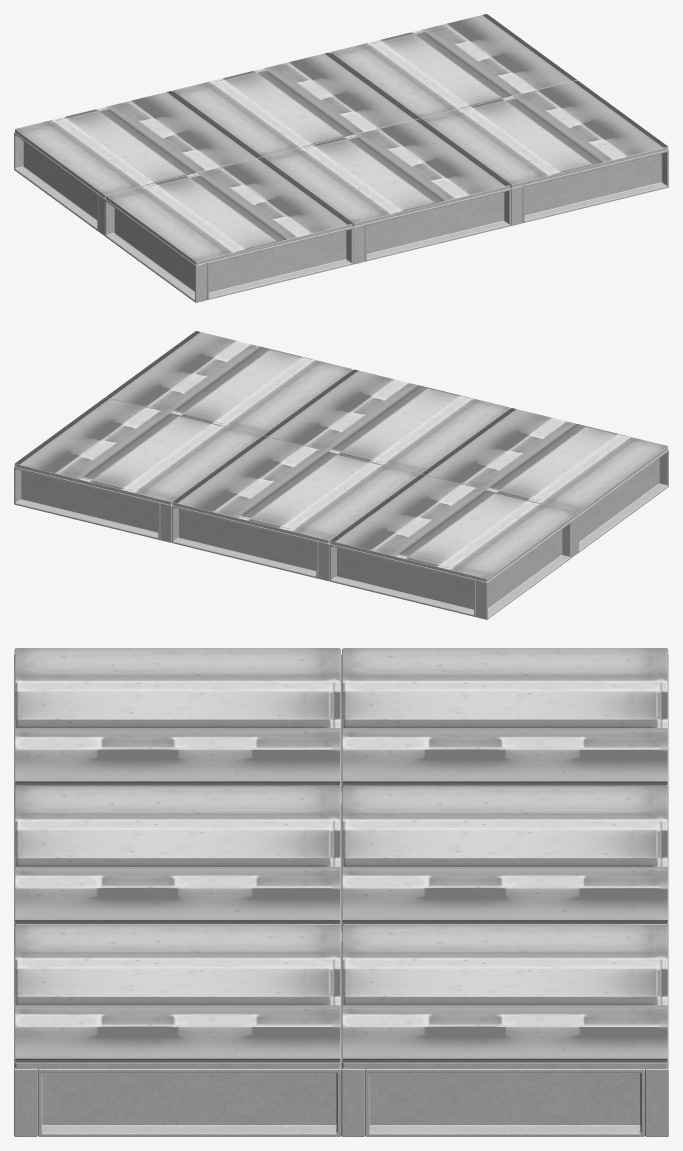
Rendered from Platform.glb.
3 renders of one model, top to bottom at view 1: azimuth 30°, elevation 25°; view 2: azimuth 150°, elevation 25°; view 3: azimuth 270°, elevation 25°, orthographic. The views are drawn at different scales.
Visible parts, largest first — view 1: PlatformBase, PlatformGrid; view 2: PlatformBase, PlatformGrid; view 3: PlatformBase, PlatformGrid.
Part boxes in pixels (x1=…): PlatformBase: x1=15, y1=14, x2=667, y2=261; PlatformGrid: x1=14, y1=52, x2=668, y2=302; PlatformBase: x1=15, y1=331, x2=667, y2=578; PlatformGrid: x1=14, y1=369, x2=668, y2=619; PlatformBase: x1=15, y1=648, x2=667, y2=1062; PlatformGrid: x1=14, y1=649, x2=668, y2=1136.
Bounding box in the file's own units: 3 × 0.2489 × 2.
2 materials, 2 textured.
